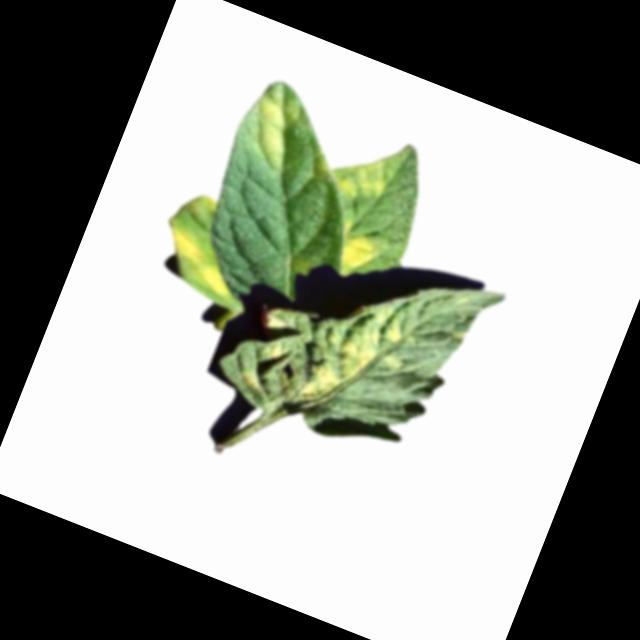Leaf_Mold: (287, 287, 418, 433), (320, 122, 413, 214), (149, 217, 249, 302), (233, 75, 311, 172), (323, 211, 390, 283)
